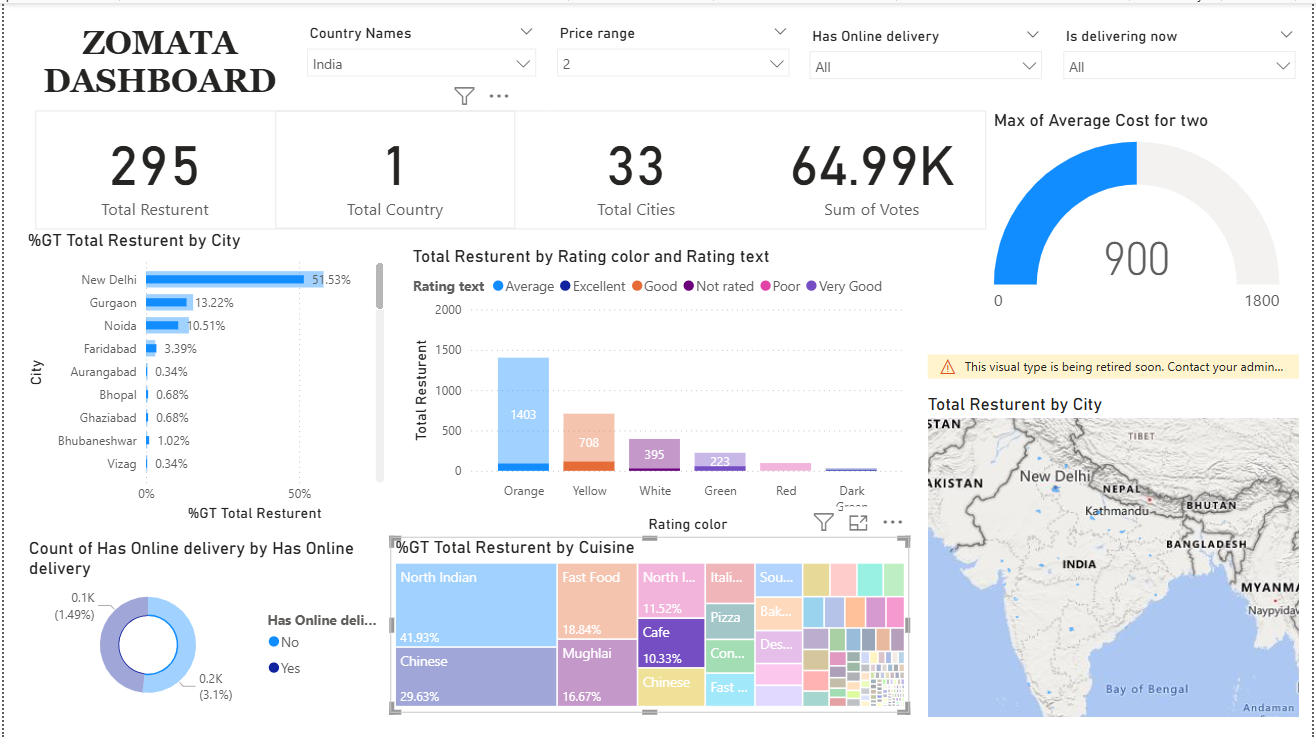

Layout of this report page (visuals, bound fields, positions):
{"tool":"powerbi","page":{"name":"Page 1","canvas":[1280,720],"ordinal":0},"visuals":[{"type":"slicer","fields":{"Values":["zomato.Country Names"]},"box":[286.6,15.8,244.1,70.6],"z":0,"group":"g1"},{"type":"card","fields":{"Values":["zomato.Total Resturent"]},"box":[30,105.8,234.7,115.2],"z":0,"group":"g2"},{"type":"clusteredBarChart","fields":{"Category":["zomato.City"],"Y":["zomato.Total Resturent"]},"box":[18.7,221.8,358.6,290.9],"z":0},{"type":"slicer","fields":{"Values":["zomato.Price range"]},"box":[530.7,15.8,247.9,72],"z":1000,"group":"g1"},{"type":"card","fields":{"Values":["zomato.Total Country"]},"box":[264.7,105.8,234.7,115.2],"z":1000,"group":"g2"},{"type":"treemap","fields":{"Group":["zomato.Cuisine"],"Values":["zomato.Total Resturent"]},"box":[377.3,522.7,508.3,171.4],"z":1000},{"type":"slicer","fields":{"Values":["zomato.Has Online delivery"]},"box":[778.6,18.7,247.9,72],"z":2000,"group":"g1"},{"type":"card","fields":{"Values":["zomato.Total Cities"]},"box":[500.3,105.8,234.7,115.2],"z":2000,"group":"g2"},{"type":"filledMap","fields":{"Category":["zomato.City"]},"box":[898.6,344.2,373,354.2],"z":2000},{"type":"slicer","fields":{"Values":["zomato.Is delivering now"]},"box":[1026.5,18.7,247.9,72],"z":3000,"group":"g1"},{"type":"card","fields":{"Values":["Sum(zomato.Votes)"]},"box":[735,105.8,226.1,115.2],"z":3000,"group":"g2"},{"type":"columnChart","fields":{"Category":["zomato.Rating color"],"Series":["zomato.Rating text"],"Y":["zomato.Total Resturent"]},"box":[394.6,237.6,491,285.1],"z":3000},{"type":"gauge","fields":{"Y":["Max(zomato.Average Cost for two)"]},"box":[963.4,103.7,289.4,216],"z":4000},{"type":"group","id":"g1","title":"Group 1","box":[286.6,15.8,987.8,74.9],"z":5000},{"type":"group","id":"g2","title":"Group 2","box":[30,105.8,931.1,115.2],"z":6000},{"type":"donutChart","fields":{"Y":["CountNonNull(zomato.Has Online delivery)"],"Category":["zomato.Has Online delivery"]},"box":[19,523,358,171],"z":7000},{"type":"textbox","box":[18.7,15.8,267.8,87.8],"z":8000}]}

Visuals, with their boxes in screenshot pixels (x1, y1, x2, y2), scaled from the page's 1280x720 canvas onto the 1316x737 screenshot:
slicer - zomato.Country Names: Rect(295, 16, 546, 88)
card - zomato.Total Resturent: Rect(31, 108, 272, 226)
clusteredBarChart - zomato.City x zomato.Total Resturent: Rect(19, 227, 388, 525)
slicer - zomato.Price range: Rect(546, 16, 800, 90)
card - zomato.Total Country: Rect(272, 108, 513, 226)
treemap - zomato.Cuisine x zomato.Total Resturent: Rect(388, 535, 911, 710)
slicer - zomato.Has Online delivery: Rect(800, 19, 1055, 93)
card - zomato.Total Cities: Rect(514, 108, 756, 226)
filledMap - zomato.City: Rect(924, 352, 1307, 715)
slicer - zomato.Is delivering now: Rect(1055, 19, 1310, 93)
card - Sum(zomato.Votes): Rect(756, 108, 988, 226)
columnChart - zomato.Rating color x zomato.Rating text: Rect(406, 243, 911, 535)
gauge - Max(zomato.Average Cost for two): Rect(990, 106, 1288, 327)
"Group 1" group: Rect(295, 16, 1310, 93)
"Group 2" group: Rect(31, 108, 988, 226)
donutChart - CountNonNull(zomato.Has Online delivery) x zomato.Has Online delivery: Rect(20, 535, 388, 710)
textbox: Rect(19, 16, 295, 106)
